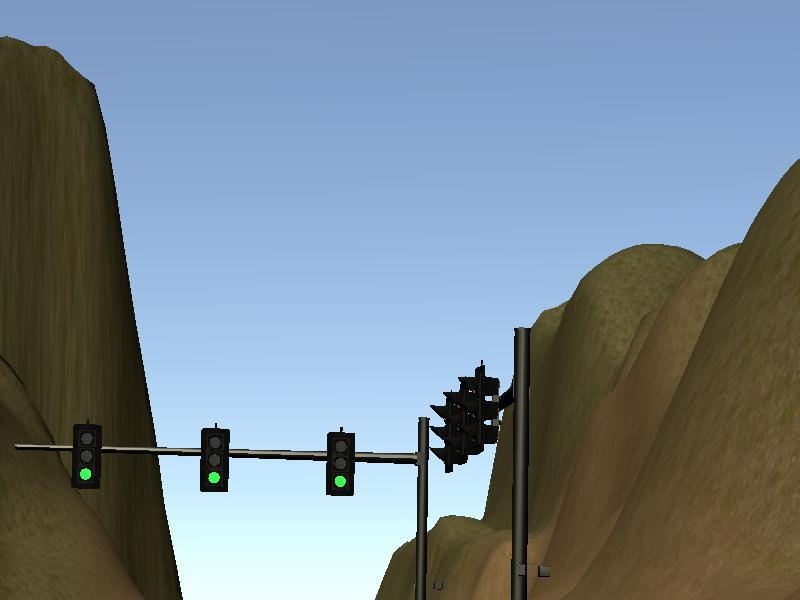green: (200, 425, 230, 492), (72, 425, 102, 487), (328, 431, 353, 493)
